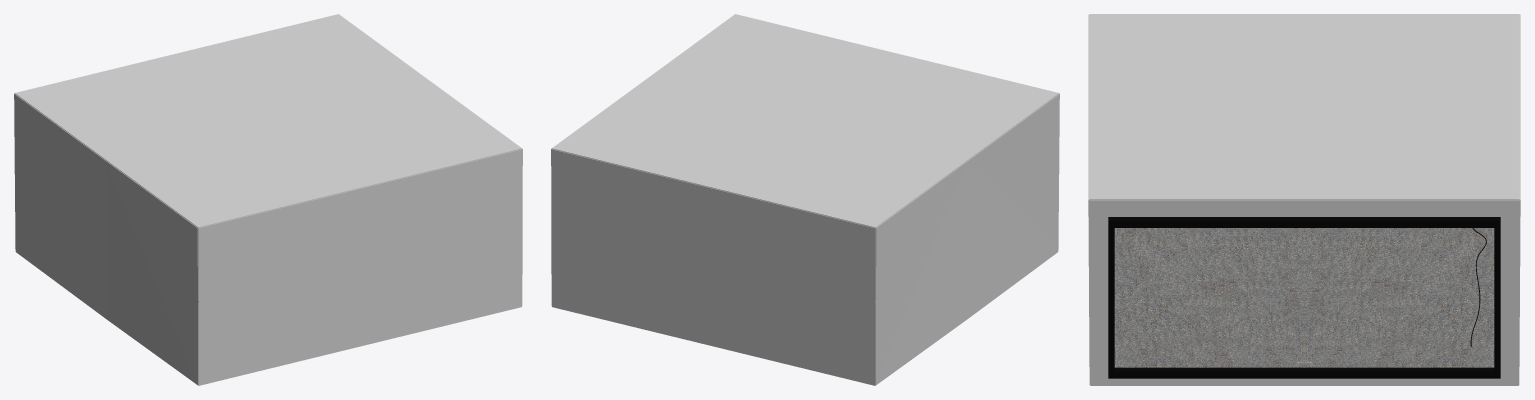
File: room.dae
3 renders of one model, left to right at view 1: azimuth 30°, elevation 25°; view 2: azimuth 150°, elevation 25°; view 3: azimuth 270°, elevation 25°, orthographic. The views are drawn at different scales.
Visible parts, largest first — view 1: outer_box; view 2: outer_box; view 3: outer_box, floor, screen_frame.
Boxes of the visible parts, x1,y1,x2,y2 form: outer_box: (14, 14, 522, 385); outer_box: (551, 14, 1059, 385); outer_box: (1088, 14, 1520, 385); floor: (1114, 228, 1494, 367); screen_frame: (1108, 217, 1500, 378).
Bounding box in the file's own units: 5.68 × 5.46 × 2.6.
12 materials, 4 textured.
